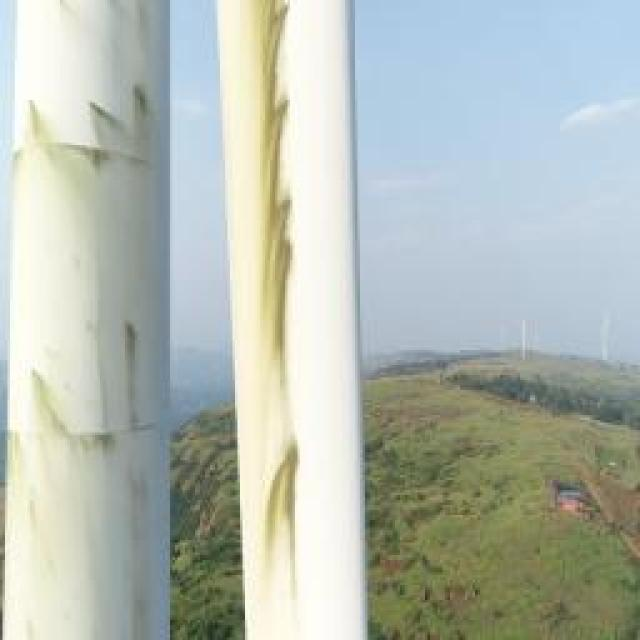Dirt: (2, 0, 174, 640), (235, 0, 302, 637)
